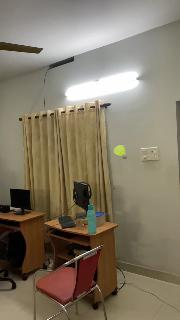shuttlecock: (114, 144, 126, 158)
